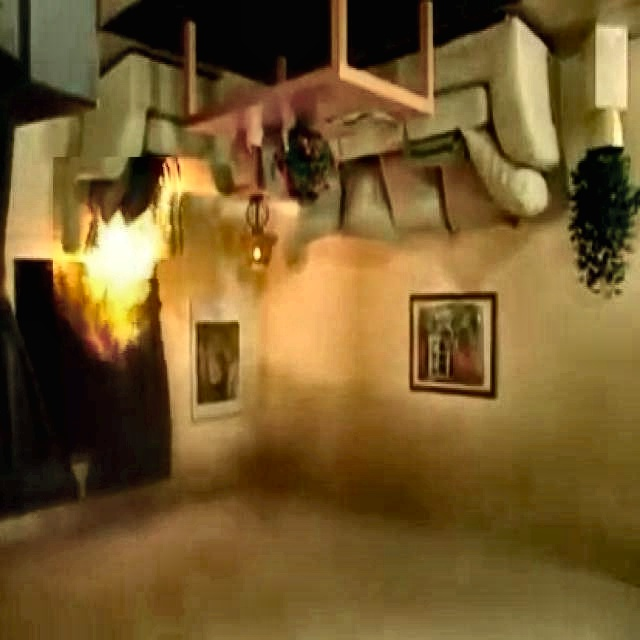fire: (57, 170, 193, 341)
